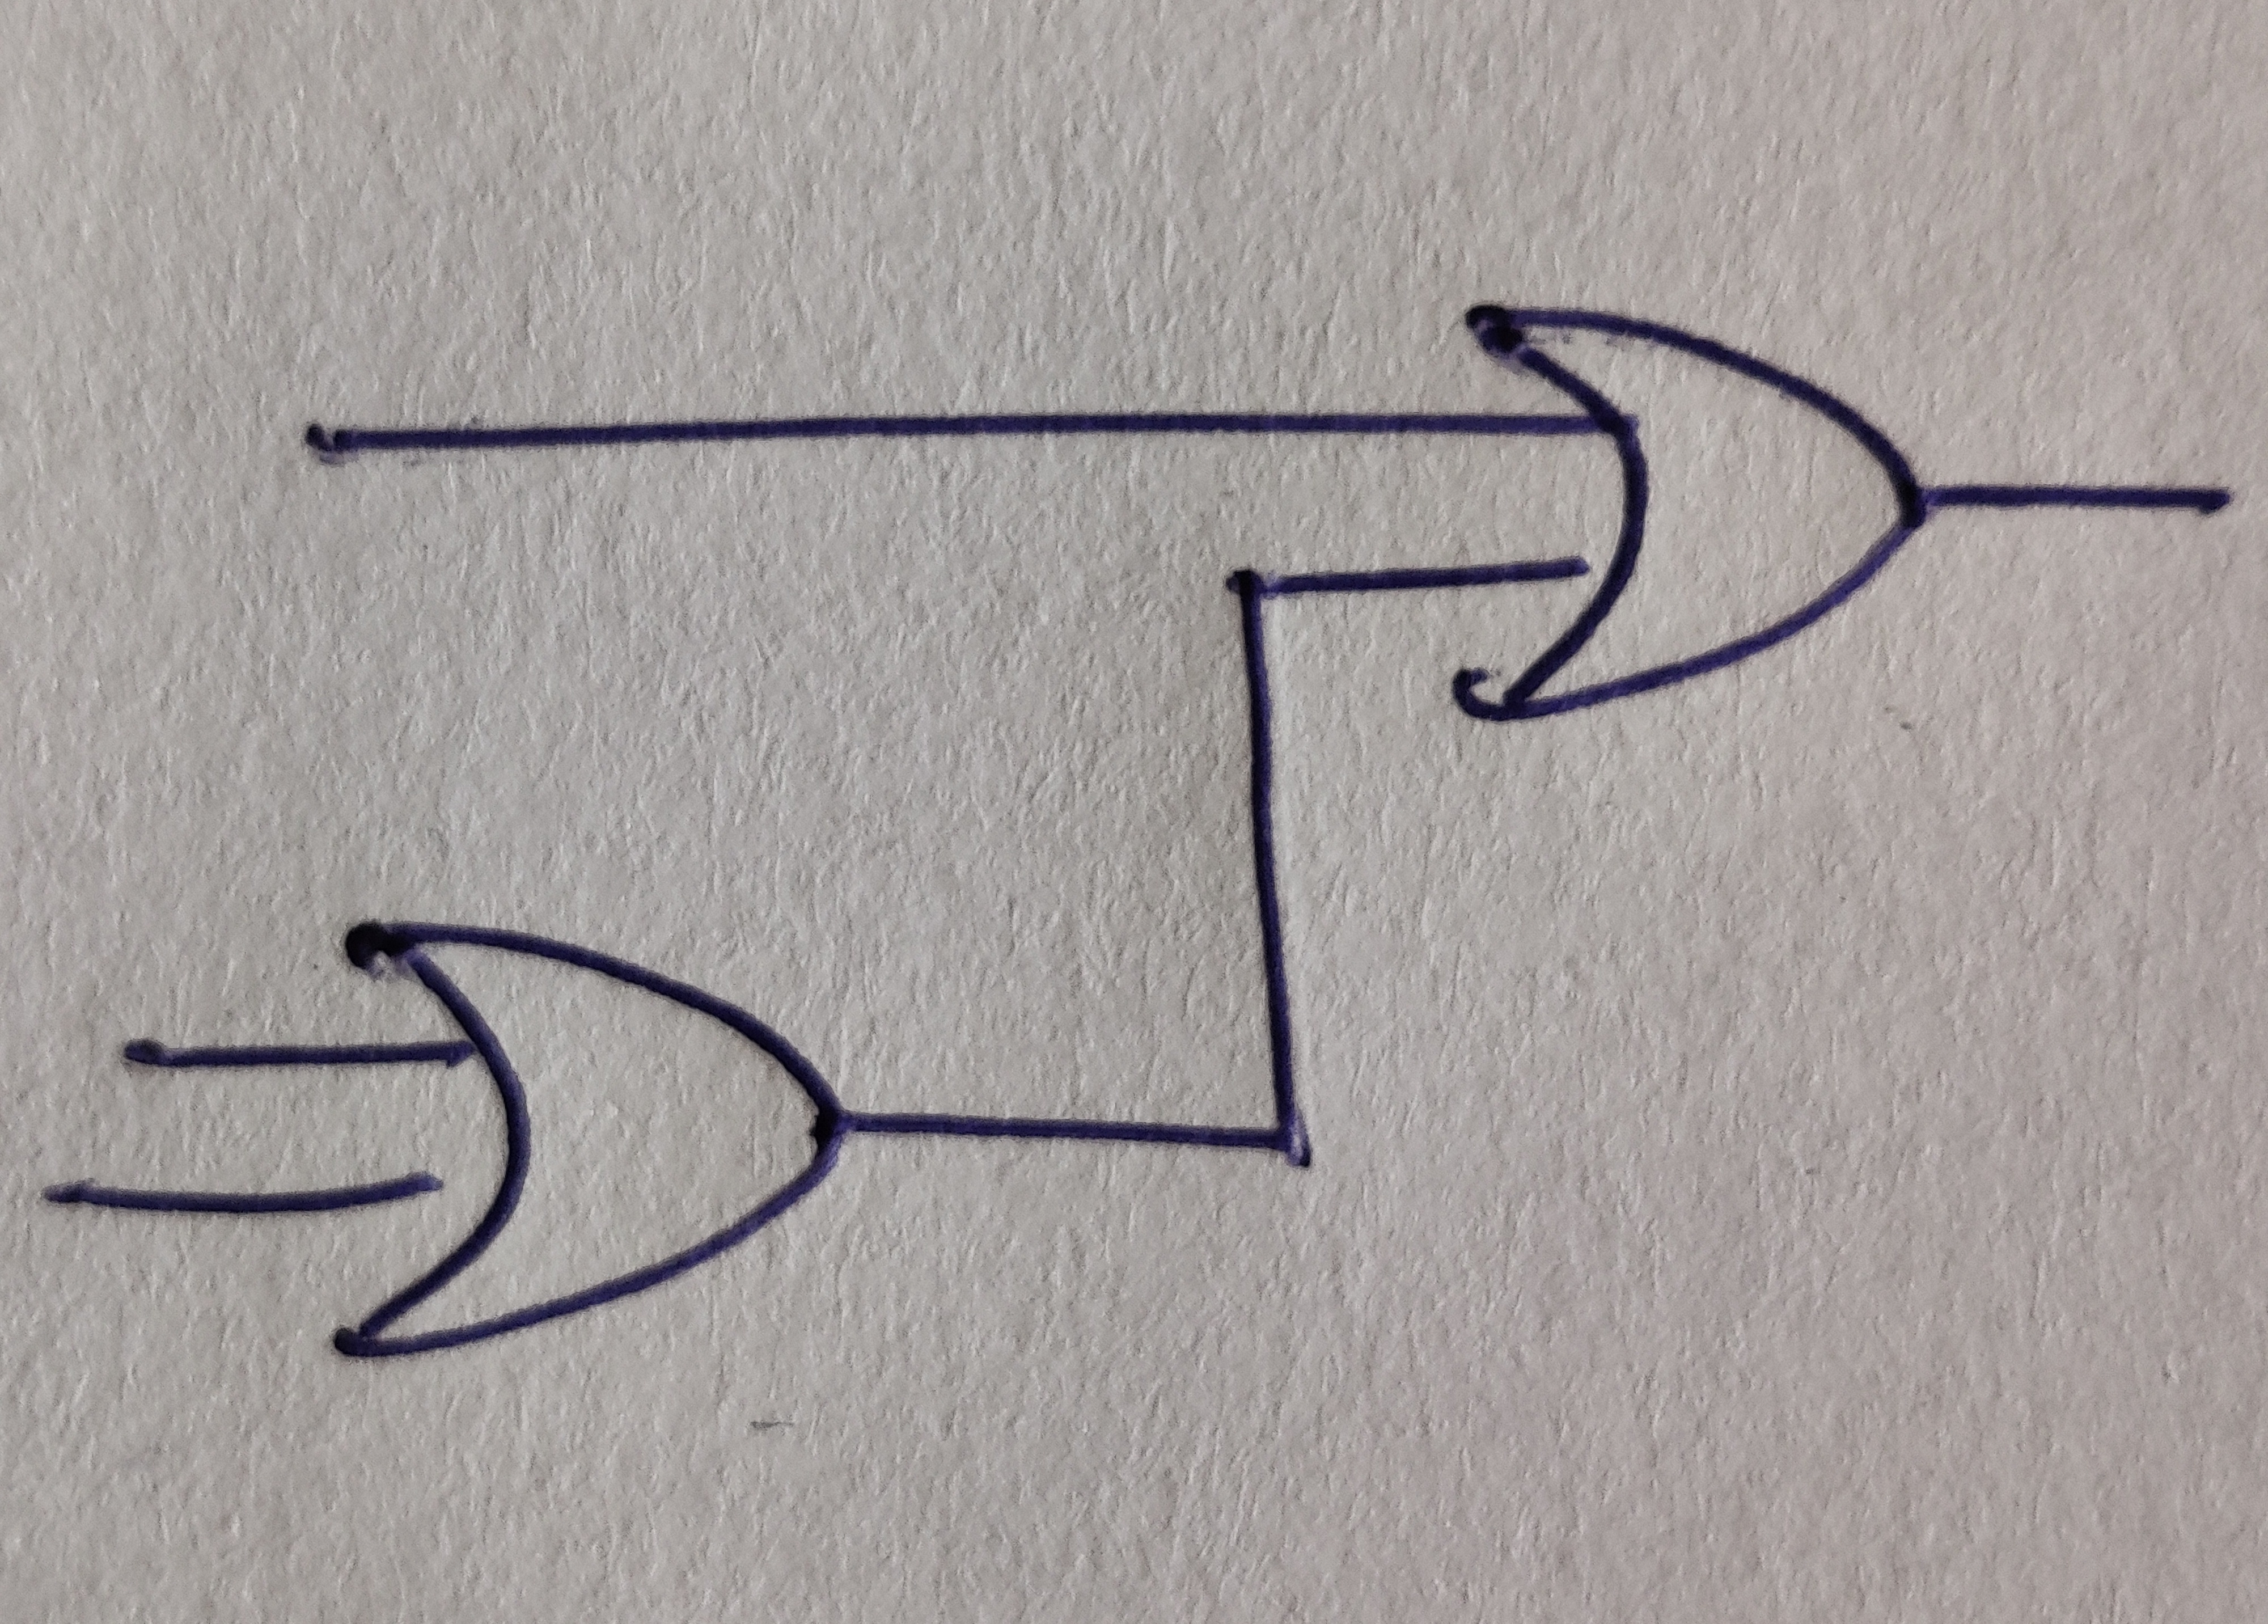or: (334, 923, 843, 1360), (1453, 306, 1929, 726)
